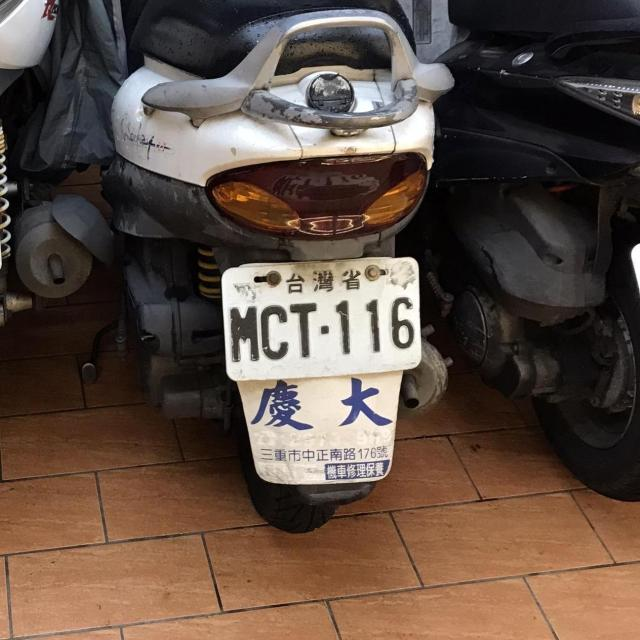W: (216, 251, 426, 387)
